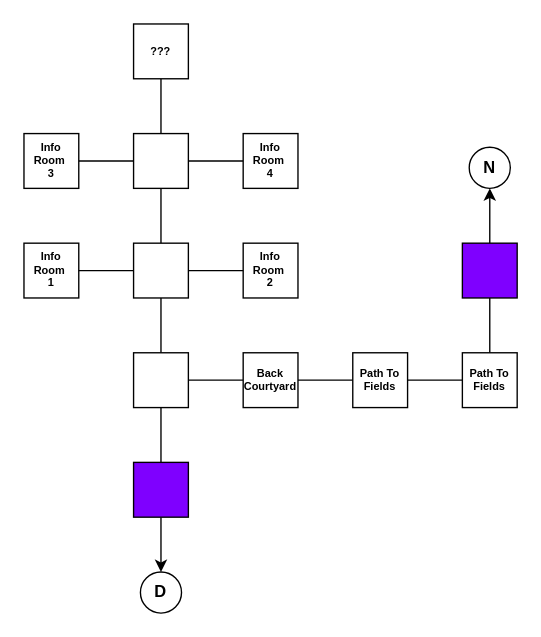
Some shapes in this 541 by 637 pixel diagram are drawn without their labels. The shapes that lost their labels are listed below. From the top down, each one's centre as x and y in pixels, then its label:
At (x=489, y=270): "Fields Entrance".
At (x=160, y=379): "Common Room".
At (x=160, y=489): "Basement (entrance)".
